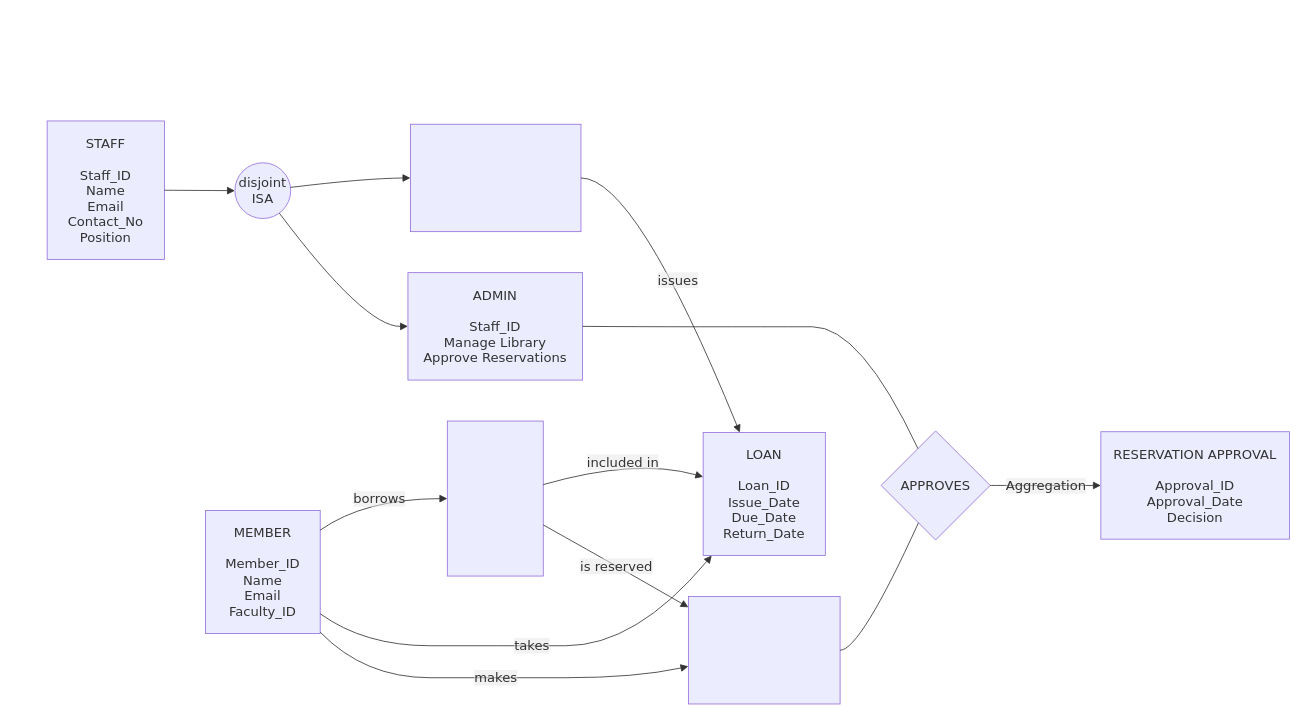
This 1304x718 diagram has some shape labels left out. Here are the shapes that lost their labels. From the top down, the centre of each, then its label:
At point (495, 177): "LIBRARIAN Staff_ID Issue Books Manage Reservations".
At point (494, 498): "BOOK Book_ID Title Author ISBN Price Status".
At point (764, 650): "RESERVATION Reservation_ID Reservation_Date Status".
